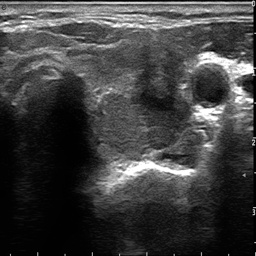mass: (137, 45, 179, 111)
